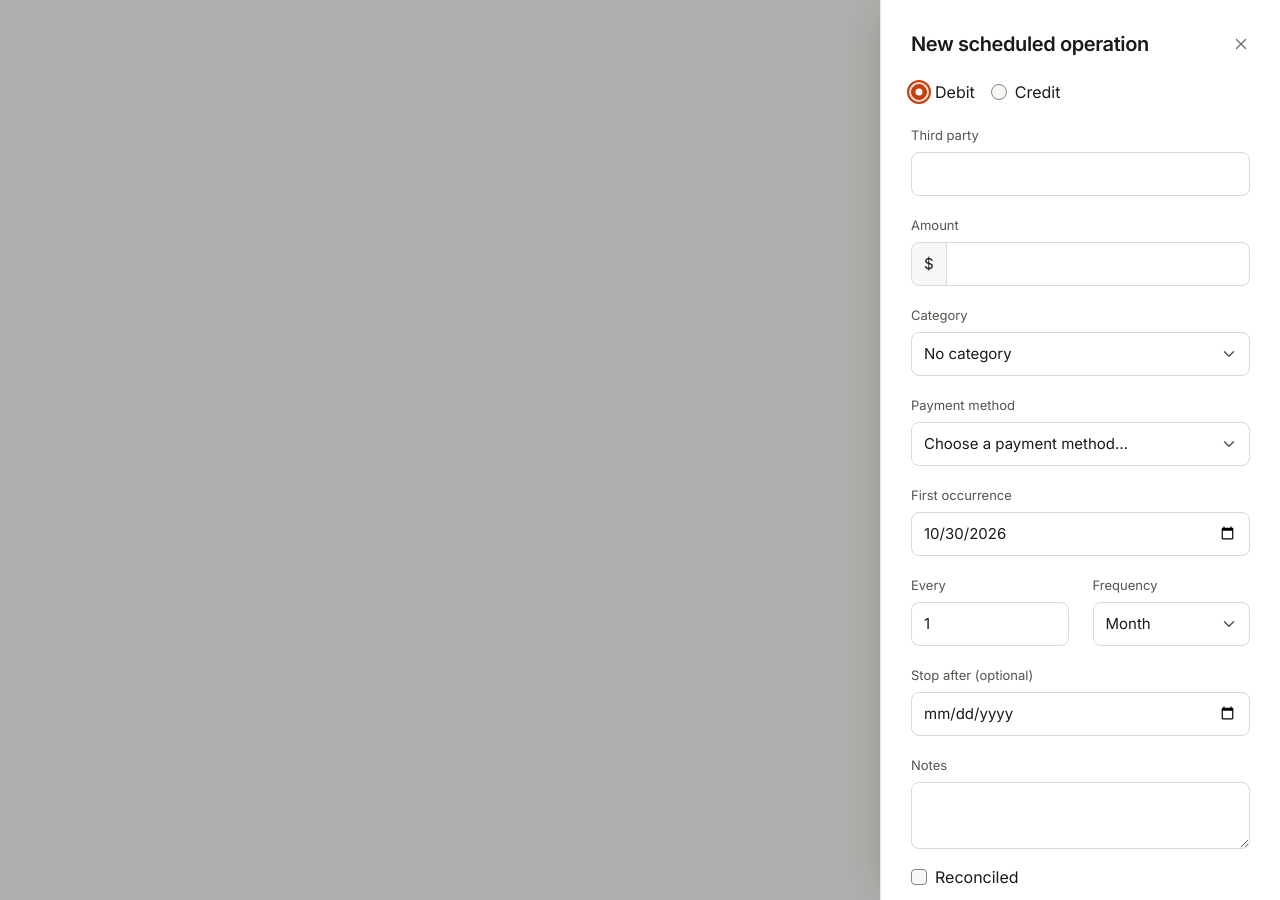
Scenario: SchedulerForm › hides the past-occurrences hint once the first occurrence is no longer in the past
The image size is (1280, 900).
Step 1. Type "2020-01-01" into the date field labelled "First occurrence" → (1080, 534), box [911,512,1250,556]
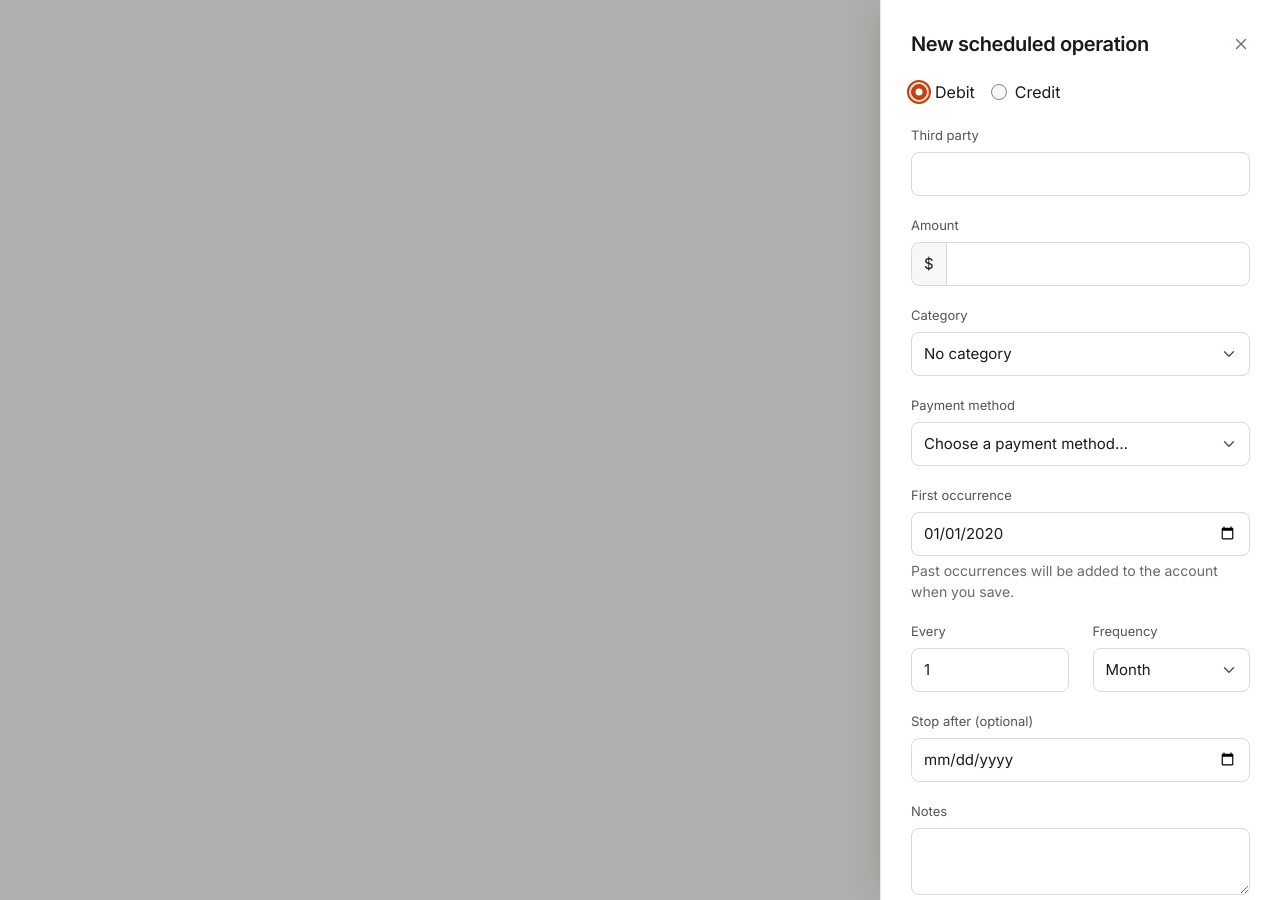
Expected: the text "Past occurrences will be added to the account when you save." is shown, [911,560,1250,602]
Step 2. Type "2099-01-01" into the date field labelled "First occurrence" → (1080, 534), box [911,512,1250,556]
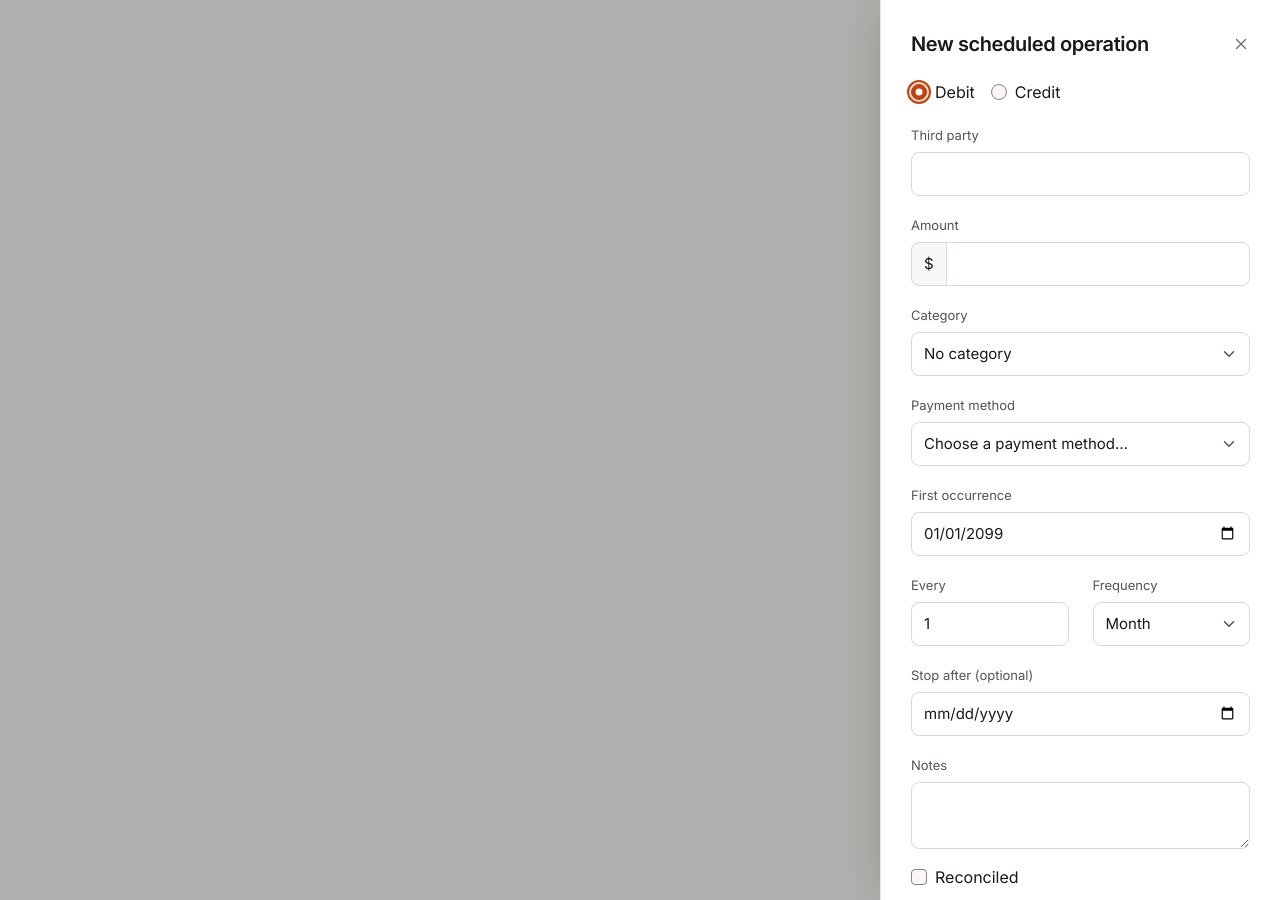
Expected: the text "Past occurrences will be added to the account when you save." is gone
